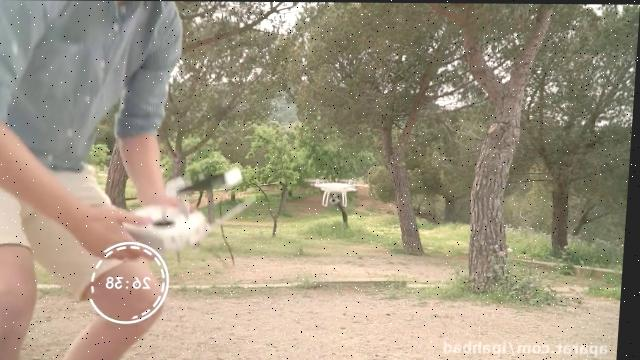drone: (303, 174, 369, 210)
